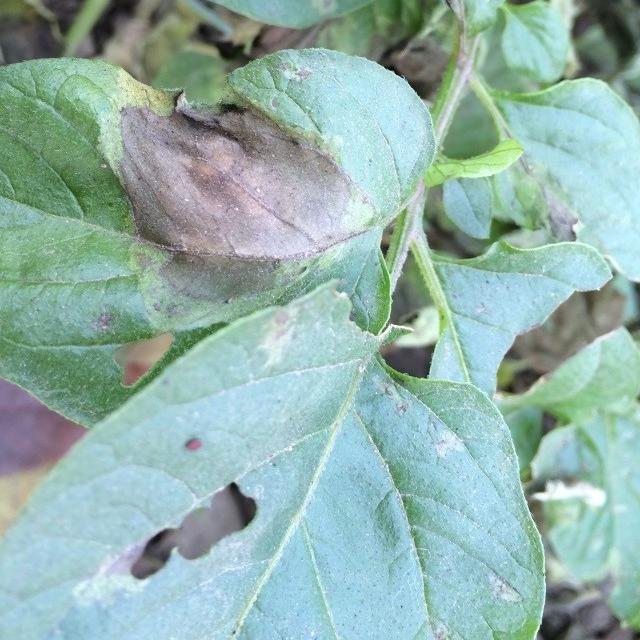Tomato leaf late blight: (78, 33, 459, 274), (327, 0, 560, 40)
